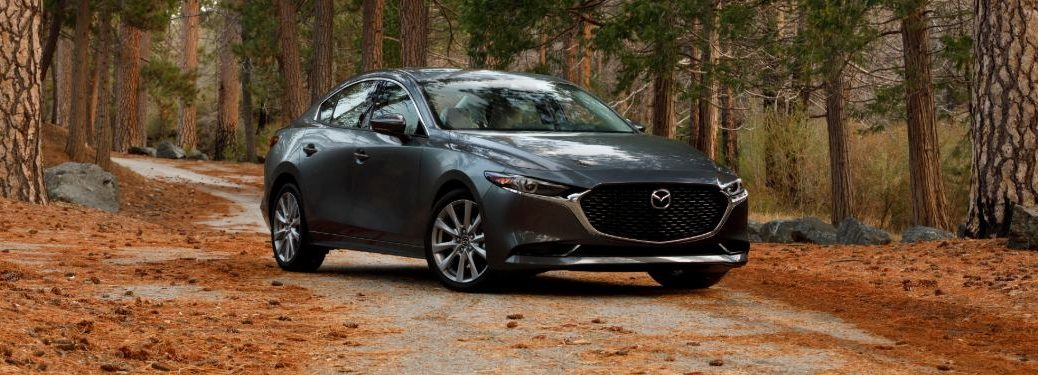car: (259, 68, 750, 293)
